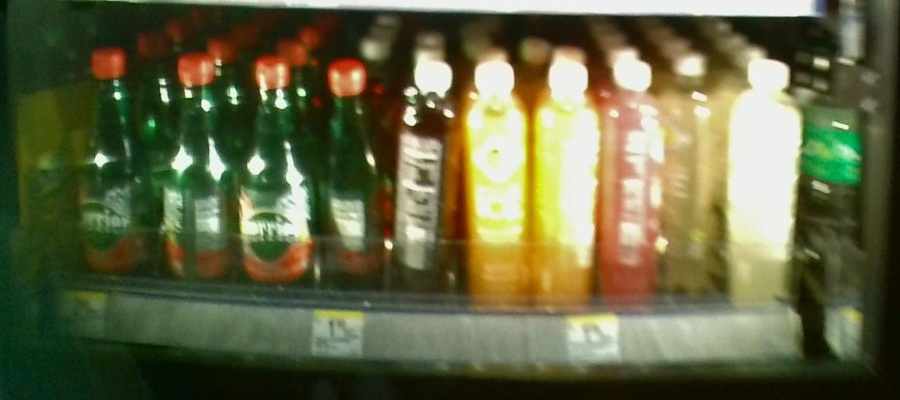bottle: (75, 39, 149, 276), (461, 64, 532, 303), (158, 53, 232, 280), (239, 55, 312, 284), (731, 60, 798, 300), (318, 58, 386, 291), (392, 61, 459, 295), (537, 63, 597, 312), (605, 57, 662, 310), (668, 47, 721, 300)
